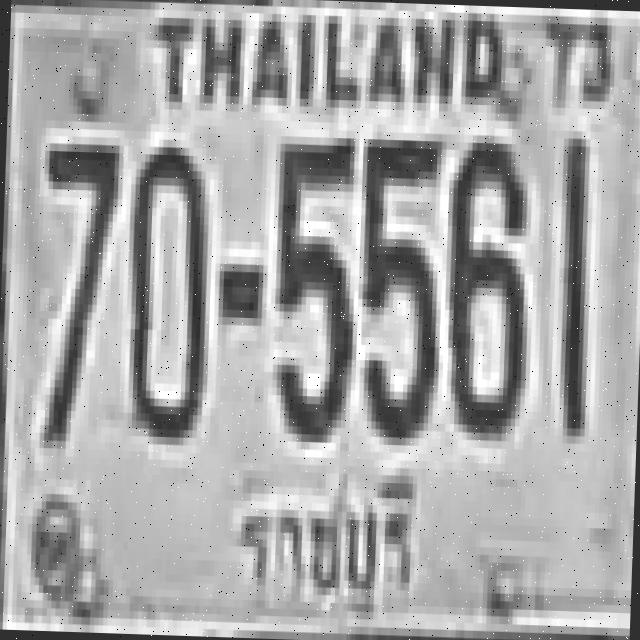0: (124, 138, 208, 438)
1: (554, 134, 590, 432), (552, 134, 588, 432)
5: (353, 130, 442, 438), (266, 135, 354, 435)
6: (440, 134, 530, 434)
7: (35, 135, 115, 442)
Ratchaburi: (229, 465, 427, 624)
